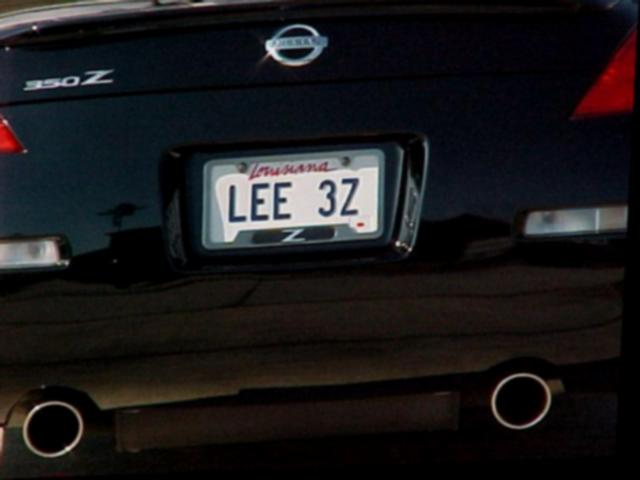License_Plate: (188, 141, 397, 261)
